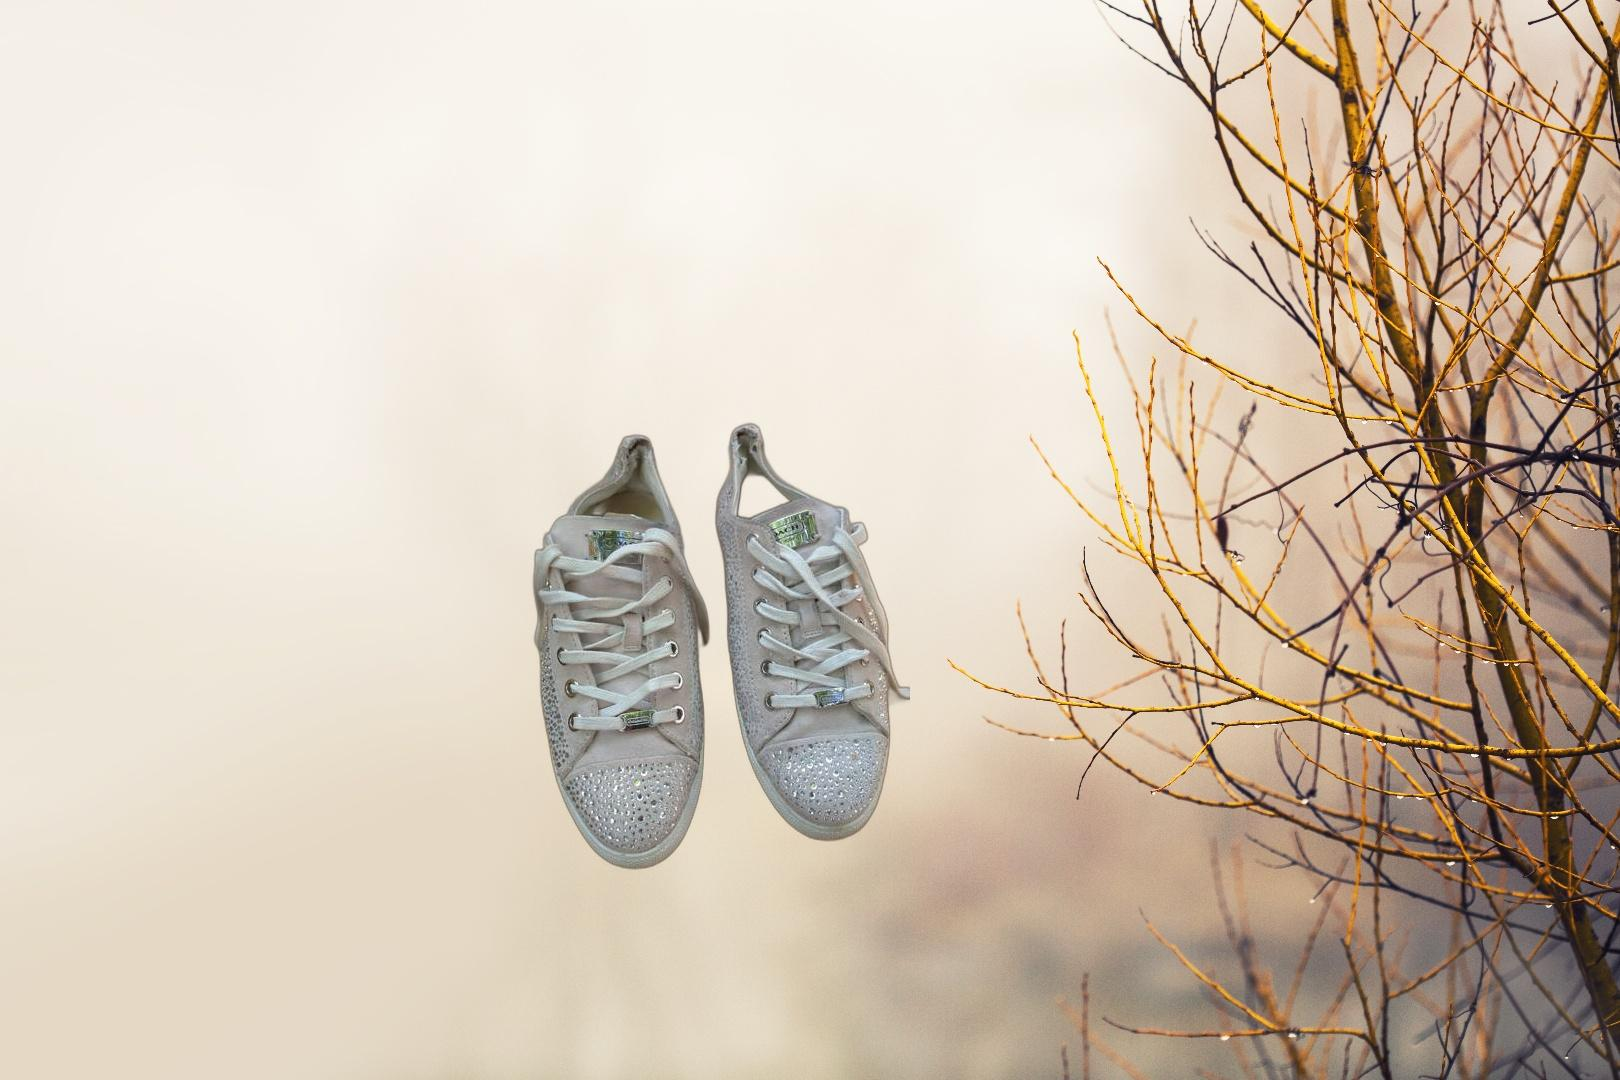shoes: (530, 419, 910, 873)
